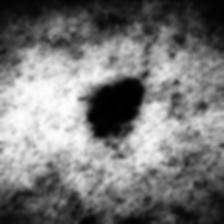Potentially Malignant Skin Tumors: (92, 85, 140, 131)
